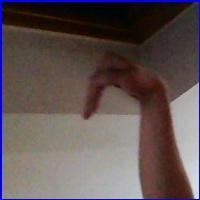del: (80, 40, 162, 127)
